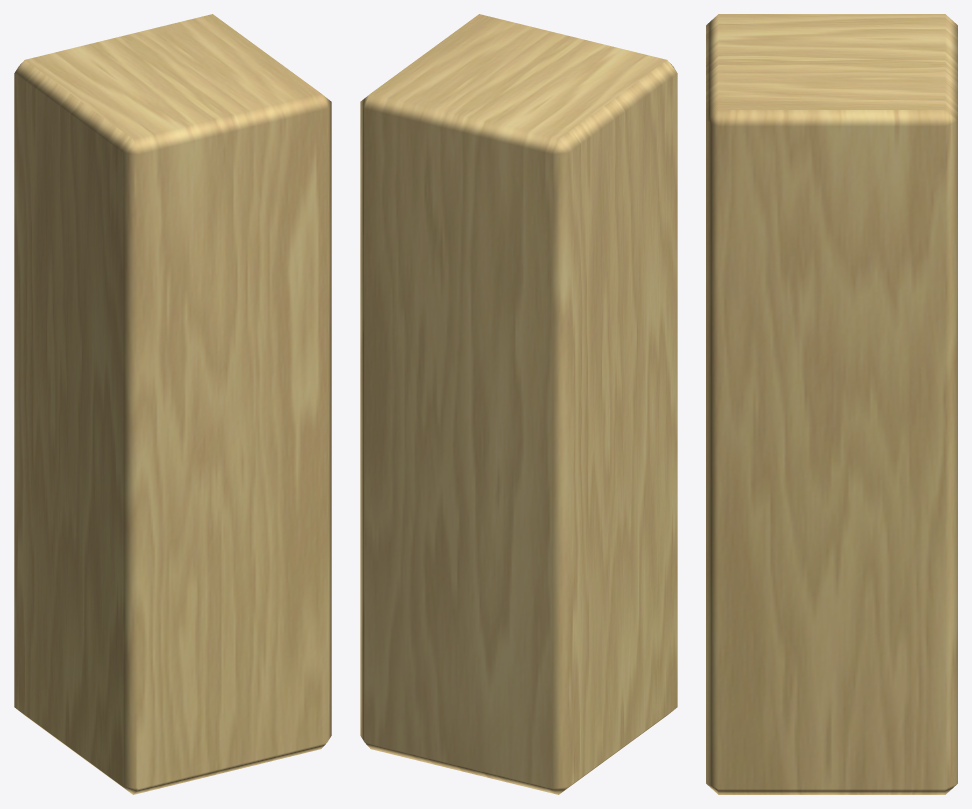
File: BgMD_BuildingBlocks_03.fbx
The picture shows the model from 3 angles, left to right: view 1: azimuth 30°, elevation 25°; view 2: azimuth 150°, elevation 25°; view 3: azimuth 270°, elevation 25°; orthographic projection. The views are drawn at different scales.
Visible parts, largest first — view 1: BgMD_BuildingBlocks_03; view 2: BgMD_BuildingBlocks_03; view 3: BgMD_BuildingBlocks_03.
Part boxes in pixels (left/top/right/bottom): BgMD_BuildingBlocks_03: left=14, top=14, right=331, bottom=794; BgMD_BuildingBlocks_03: left=360, top=14, right=677, bottom=794; BgMD_BuildingBlocks_03: left=706, top=14, right=957, bottom=794.
Bounding box in the file's own units: 100 × 300 × 100.
